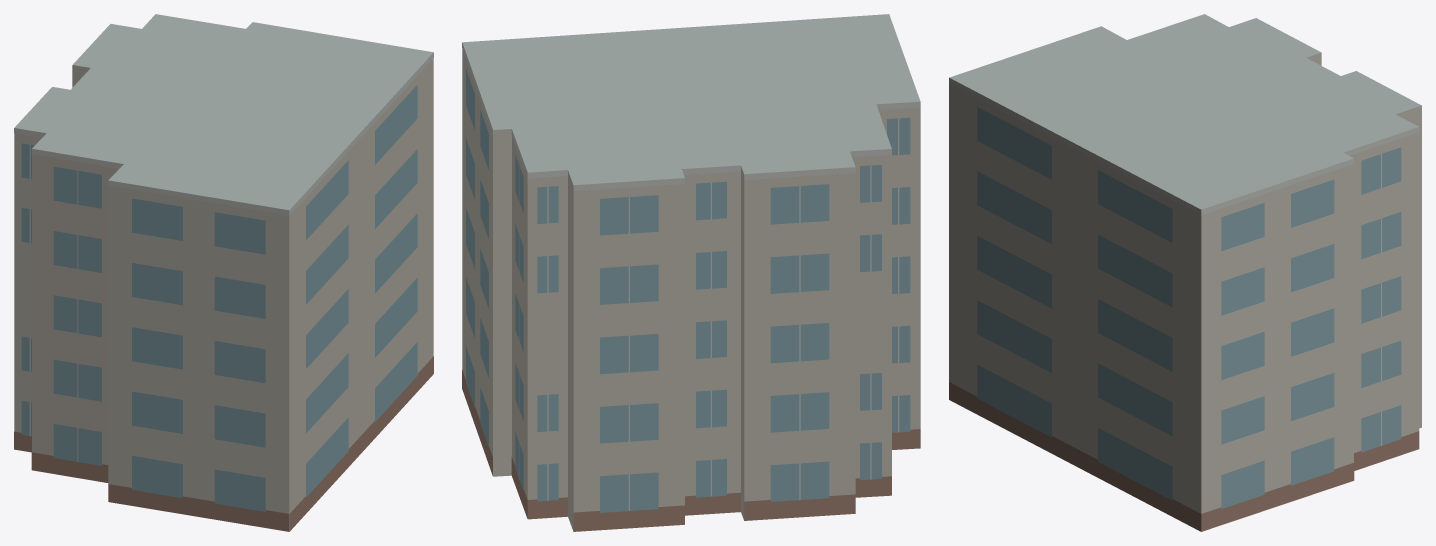
The model's file is survey-upis-32669072.glb.
3 renders of one model, left to right at view 1: azimuth 30°, elevation 25°; view 2: azimuth 150°, elevation 25°; view 3: azimuth 270°, elevation 25°, orthographic. The views are drawn at different scales.
Parts seen in each view (by area): view 1: survey-upis-32669072.tmp; view 2: survey-upis-32669072.tmp; view 3: survey-upis-32669072.tmp.
Boxes of the visible parts, x1,y1,x2,y2 form: survey-upis-32669072.tmp: [14, 14, 433, 531]; survey-upis-32669072.tmp: [462, 14, 920, 531]; survey-upis-32669072.tmp: [949, 14, 1421, 531].
Bounding box in the file's own units: 18.76 × 14.4 × 19.16.
